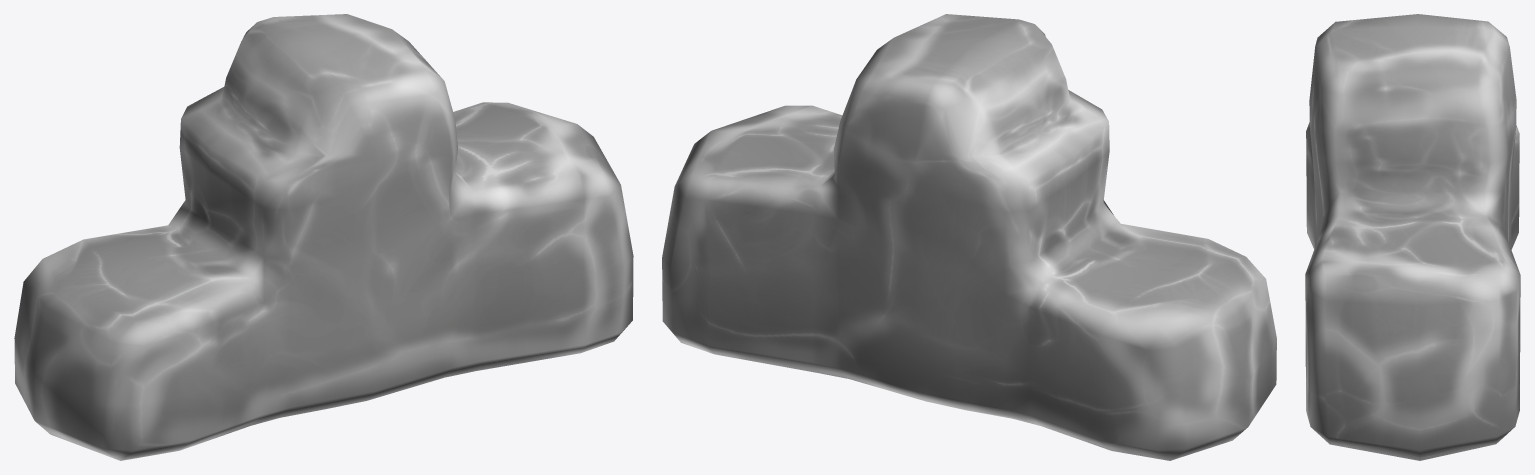
The model's file is roca6.fbx.
3 renders of one model, left to right at view 1: azimuth 30°, elevation 25°; view 2: azimuth 150°, elevation 25°; view 3: azimuth 270°, elevation 25°, orthographic. The views are drawn at different scales.
Visible parts, largest first — view 1: roca6; view 2: roca6; view 3: roca6.
Part boxes in pixels (bbox=[...]): roca6: bbox=[14, 14, 633, 460]; roca6: bbox=[662, 14, 1276, 460]; roca6: bbox=[1305, 14, 1520, 460].
Bounding box in the file's own units: 22.8 × 13.11 × 8.02.
